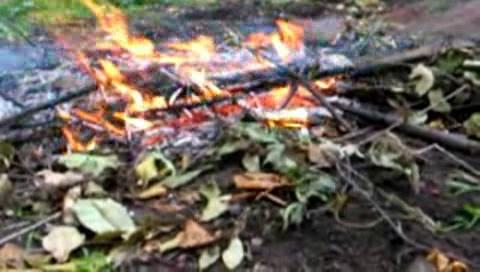fire: (91, 3, 320, 128)
